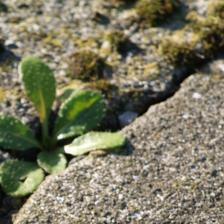Crack: (56, 21, 168, 112)
